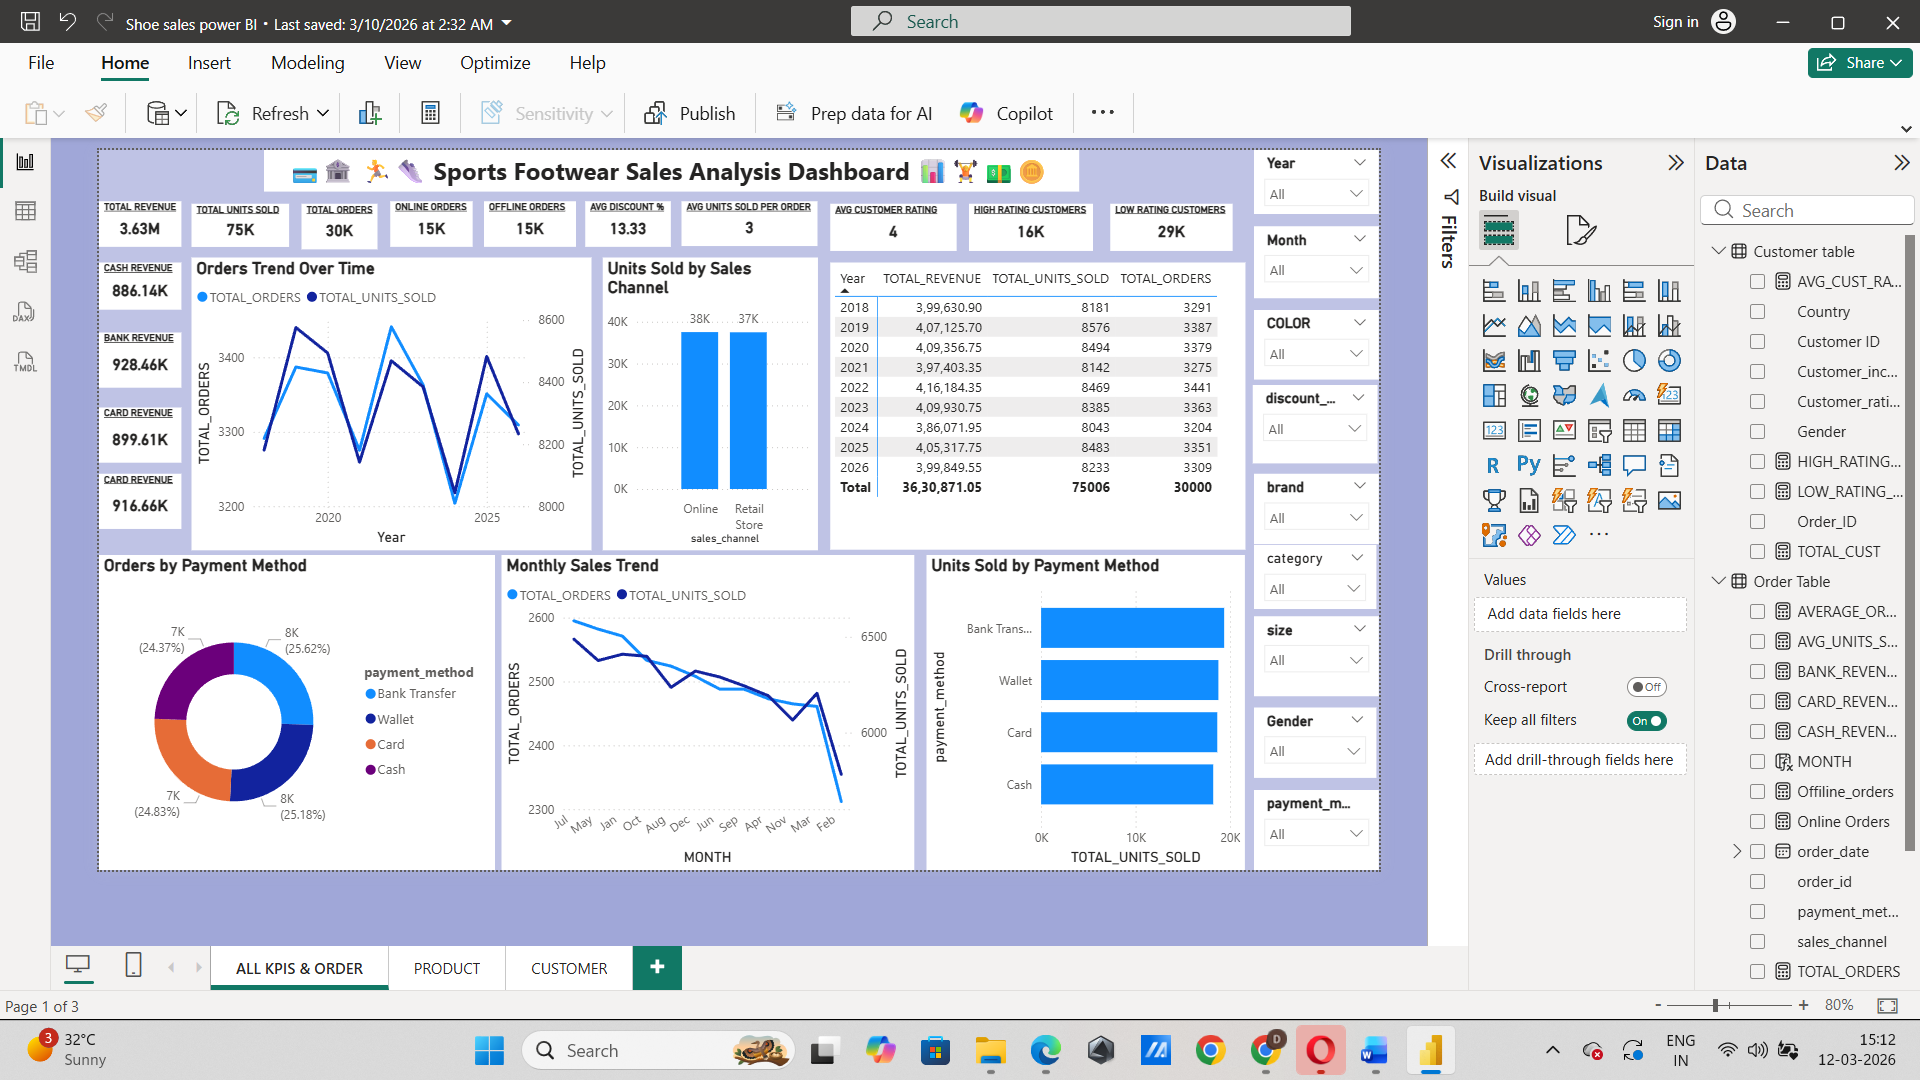

The dashboard page shown, as its layout file describes it:
{"tool":"powerbi","page":{"name":"ALL KPIS & ORDER","canvas":[1280,720],"ordinal":0},"visuals":[{"type":"card","title":"TOTAL REVENUE","fields":{"Values":["Products Table.TOTAL_REVENUE"]},"box":[0,51.3,82.2,45.3],"z":0},{"type":"card","title":"TOTAL UNITS SOLD","fields":{"Values":["Order Table.TOTAL_UNITS_SOLD"]},"box":[93,53.6,97.7,42.9],"z":1000},{"type":"slicer","fields":{"Values":["Products Table.color"]},"box":[1155.2,160.4,125,69.3],"z":2000},{"type":"slicer","fields":{"Values":["Order Table.order_date.Variation.Date Hierarchy.Year"]},"box":[1155.2,0,125,63.9],"z":3000},{"type":"slicer","fields":{"Values":["Order Table.order_date.Variation.Date Hierarchy.Month"]},"box":[1155.2,76.1,125,72],"z":4000},{"type":"slicer","fields":{"Values":["Products Table.brand"]},"box":[1155.2,323.5,125,70.7],"z":5000},{"type":"slicer","fields":{"Values":["Products Table.category"]},"box":[1155.2,395.5,122.3,63.9],"z":6000},{"type":"slicer","fields":{"Values":["Products Table.size"]},"box":[1155.2,466.2,125,80.2],"z":7000},{"type":"slicer","fields":{"Values":["Customer table.Gender"]},"box":[1155.2,557.2,122.3,70.7],"z":8000},{"type":"slicer","fields":{"Values":["Order Table.payment_method"]},"box":[1155.2,640.1,125,80.2],"z":9000},{"type":"slicer","fields":{"Values":["Products Table.discount_percent"]},"box":[1155.2,246,125,77.5],"z":10000},{"type":"card","title":"TOTAL ORDERS","fields":{"Values":["Order Table.TOTAL_ORDERS"]},"box":[202.6,53.6,76.3,45.3],"z":11000},{"type":"card","title":"ONLINE ORDERS","fields":{"Values":["Order Table.Online Orders"]},"box":[290.9,51.3,82.2,45.3],"z":12000},{"type":"card","title":"AVG DISCOUNT %","fields":{"Values":["Products Table.AVG_DISCOUNT_%"]},"box":[486.3,51.3,85.8,45.3],"z":13000},{"type":"textbox","box":[164.5,0,815.3,41.7],"z":14000},{"type":"card","title":"OFFLINE ORDERS","fields":{"Values":["Order Table.Offiline_orders"]},"box":[385,51.3,91.8,45.3],"z":15000},{"type":"card","title":"AVG UNITS SOLD PER ORDER","fields":{"Values":["Order Table.AVG_UNITS_SOLD"]},"box":[582.5,51.2,136.2,45],"z":16000},{"type":"card","title":"AVG CUSTOMER  RATING","fields":{"Values":["Customer table.AVG_CUST_RATING"]},"box":[731.2,53.8,126.2,47.5],"z":17000},{"type":"card","title":"HIGH  RATING CUSTOMERS","fields":{"Values":["Customer table.HIGH_RATING_CUST"]},"box":[870,53.8,123.8,47.5],"z":18000},{"type":"card","title":"LOW RATING CUSTOMERS","fields":{"Values":["Customer table.LOW_RATING_CUST"]},"box":[1011.2,53.8,122.5,47.5],"z":19000},{"type":"card","title":"CASH REVENUE","fields":{"Values":["Order Table.CASH_REVENUE"]},"box":[0,112.5,82.5,47.5],"z":20000},{"type":"card","title":"BANK REVENUE","fields":{"Values":["Order Table.BANK_TRANSFERS"]},"box":[0,182.5,82.5,55],"z":21000},{"type":"card","title":"CARD REVENUE","fields":{"Values":["Order Table.CARD_REVENUE"]},"box":[0,257.5,82.5,55],"z":22000},{"type":"card","title":"CARD REVENUE","fields":{"Values":["Order Table.WALLET_REVENUE"]},"box":[0,323.8,82.5,55],"z":23000},{"type":"lineChart","title":"Orders Trend Over Time","fields":{"Category":["Order Table.order_date.Variation.Date Hierarchy.Year","Order Table.order_date.Variation.Date Hierarchy.Quarter","Order Table.order_date.Variation.Date Hierarchy.Month","Order Table.order_date.Variation.Date Hierarchy.Day"],"Y":["Order Table.TOTAL_ORDERS"],"Y2":["Order Table.TOTAL_UNITS_SOLD"]},"box":[92.5,107.5,400,292.5],"z":24000},{"type":"clusteredColumnChart","title":"Units Sold by Sales Channel","fields":{"Category":["Order Table.sales_channel"],"Y":["Order Table.TOTAL_UNITS_SOLD"]},"box":[503.8,107.5,215,292.5],"z":25000},{"type":"donutChart","title":"Orders by Payment Method","fields":{"Category":["Order Table.payment_method"],"Y":["Order Table.TOTAL_ORDERS"]},"box":[0,405,396.2,315],"z":26000},{"type":"barChart","title":"Units Sold by Payment Method","fields":{"Category":["Order Table.payment_method"],"Y":["Order Table.TOTAL_UNITS_SOLD"]},"box":[827.5,405,318.8,315],"z":27000},{"type":"lineChart","title":"Monthly Sales Trend","fields":{"Category":["Order Table.MONTH"],"Y":["Order Table.TOTAL_ORDERS"],"Y2":["Order Table.TOTAL_UNITS_SOLD"]},"box":[402.5,405,412.5,315],"z":28000},{"type":"pivotTable","title":"Revenue vs Orders Trend","fields":{"Rows":["Order Table.order_date.Variation.Date Hierarchy.Year"],"Values":["Products Table.TOTAL_REVENUE","Order Table.TOTAL_UNITS_SOLD","Order Table.TOTAL_ORDERS"]},"box":[731.2,112.5,415,287.5],"z":29000}]}

Visuals, with their boxes on the page's 1280x720 design canvas (x1, y1, x2, y2). These are canvas units, not pixel positions in the 1920x1080 screenshot, which may show the page scaled, cropped or inside an application window:
"TOTAL REVENUE" card: select_region(0, 51, 82, 97)
"TOTAL UNITS SOLD" card: select_region(93, 54, 191, 96)
slicer - Products Table.color: select_region(1155, 160, 1280, 230)
slicer - Order Table.order_date.Variation.Date Hierarchy.Year: select_region(1155, 0, 1280, 64)
slicer - Order Table.order_date.Variation.Date Hierarchy.Month: select_region(1155, 76, 1280, 148)
slicer - Products Table.brand: select_region(1155, 324, 1280, 394)
slicer - Products Table.category: select_region(1155, 396, 1278, 459)
slicer - Products Table.size: select_region(1155, 466, 1280, 546)
slicer - Customer table.Gender: select_region(1155, 557, 1278, 628)
slicer - Order Table.payment_method: select_region(1155, 640, 1280, 720)
slicer - Products Table.discount_percent: select_region(1155, 246, 1280, 324)
"TOTAL ORDERS" card: select_region(203, 54, 279, 99)
"ONLINE ORDERS" card: select_region(291, 51, 373, 97)
"AVG DISCOUNT %" card: select_region(486, 51, 572, 97)
textbox: select_region(164, 0, 980, 42)
"OFFLINE ORDERS" card: select_region(385, 51, 477, 97)
"AVG UNITS SOLD PER ORDER" card: select_region(582, 51, 719, 96)
"AVG CUSTOMER  RATING" card: select_region(731, 54, 857, 101)
"HIGH  RATING CUSTOMERS" card: select_region(870, 54, 994, 101)
"LOW RATING CUSTOMERS" card: select_region(1011, 54, 1134, 101)
"CASH REVENUE" card: select_region(0, 112, 82, 160)
"BANK REVENUE" card: select_region(0, 182, 82, 238)
"CARD REVENUE" card: select_region(0, 258, 82, 312)
"CARD REVENUE" card: select_region(0, 324, 82, 379)
"Orders Trend Over Time" lineChart: select_region(92, 108, 492, 400)
"Units Sold by Sales Channel" clusteredColumnChart: select_region(504, 108, 719, 400)
"Orders by Payment Method" donutChart: select_region(0, 405, 396, 720)
"Units Sold by Payment Method" barChart: select_region(828, 405, 1146, 720)
"Monthly Sales Trend" lineChart: select_region(402, 405, 815, 720)
"Revenue vs Orders Trend" pivotTable: select_region(731, 112, 1146, 400)
